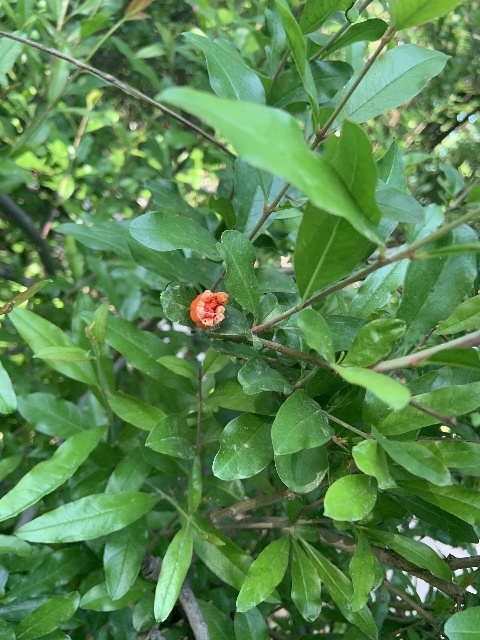flower: (189, 289, 229, 328)
